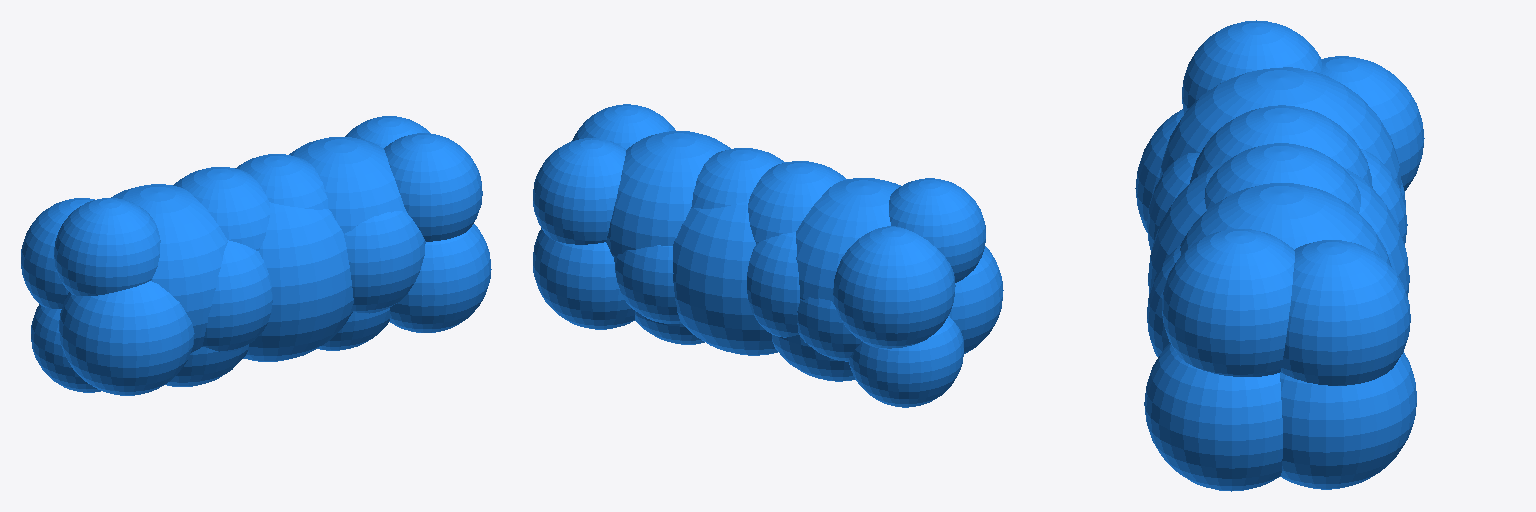
The robot description file, URDF, robot "speaker":
<?xml version="1.0"?>
<robot name="speaker">
  <!-- morphit:centroid -0.001900 0.000864 0.038425 -->
  <material name="default_color">
    <color rgba="0.200000 0.600000 1.000000 1.000000"/>
  </material>
  <link name="base">
    <inertial>
      <mass value="0.001000"/>
      <inertia ixx="0.000010" ixy="0.0" ixz="0.0" iyy="0.000010" iyz="0.0" izz="0.000010"/>
    </inertial>
  </link>
  <link name="sphere_0">
    <visual>
      <origin xyz="0 0 0" rpy="0 0 0"/>
      <geometry><sphere radius="0.025777"/></geometry>
      <material name="default_color"/>
    </visual>
    <collision>
      <origin xyz="0 0 0" rpy="0 0 0"/>
      <geometry><sphere radius="0.025777"/></geometry>
    </collision>
    <inertial>
      <mass value="0.044237"/>
      <inertia ixx="0.000012" ixy="0.0" ixz="0.0" iyy="0.000012" iyz="0.0" izz="0.000012"/>
    </inertial>
  </link>
  <joint name="sphere_0_fixed" type="fixed">
    <parent link="base"/>
    <child link="sphere_0"/>
    <origin xyz="-0.062753 -0.015723 -0.007194" rpy="0 0 0"/>
  </joint>
  <link name="sphere_1">
    <visual>
      <origin xyz="0 0 0" rpy="0 0 0"/>
      <geometry><sphere radius="0.024598"/></geometry>
      <material name="default_color"/>
    </visual>
    <collision>
      <origin xyz="0 0 0" rpy="0 0 0"/>
      <geometry><sphere radius="0.024598"/></geometry>
    </collision>
    <inertial>
      <mass value="0.038439"/>
      <inertia ixx="0.000009" ixy="0.0" ixz="0.0" iyy="0.000009" iyz="0.0" izz="0.000009"/>
    </inertial>
  </link>
  <joint name="sphere_1_fixed" type="fixed">
    <parent link="base"/>
    <child link="sphere_1"/>
    <origin xyz="0.067111 -0.014425 -0.013421" rpy="0 0 0"/>
  </joint>
  <link name="sphere_2">
    <visual>
      <origin xyz="0 0 0" rpy="0 0 0"/>
      <geometry><sphere radius="0.025559"/></geometry>
      <material name="default_color"/>
    </visual>
    <collision>
      <origin xyz="0 0 0" rpy="0 0 0"/>
      <geometry><sphere radius="0.025559"/></geometry>
    </collision>
    <inertial>
      <mass value="0.043122"/>
      <inertia ixx="0.000011" ixy="0.0" ixz="0.0" iyy="0.000011" iyz="0.0" izz="0.000011"/>
    </inertial>
  </link>
  <joint name="sphere_2_fixed" type="fixed">
    <parent link="base"/>
    <child link="sphere_2"/>
    <origin xyz="0.064702 0.012197 -0.012926" rpy="0 0 0"/>
  </joint>
  <link name="sphere_3">
    <visual>
      <origin xyz="0 0 0" rpy="0 0 0"/>
      <geometry><sphere radius="0.023199"/></geometry>
      <material name="default_color"/>
    </visual>
    <collision>
      <origin xyz="0 0 0" rpy="0 0 0"/>
      <geometry><sphere radius="0.023199"/></geometry>
    </collision>
    <inertial>
      <mass value="0.032247"/>
      <inertia ixx="0.000007" ixy="0.0" ixz="0.0" iyy="0.000007" iyz="0.0" izz="0.000007"/>
    </inertial>
  </link>
  <joint name="sphere_3_fixed" type="fixed">
    <parent link="base"/>
    <child link="sphere_3"/>
    <origin xyz="-0.063724 0.016560 0.007934" rpy="0 0 0"/>
  </joint>
  <link name="sphere_4">
    <visual>
      <origin xyz="0 0 0" rpy="0 0 0"/>
      <geometry><sphere radius="0.022176"/></geometry>
      <material name="default_color"/>
    </visual>
    <collision>
      <origin xyz="0 0 0" rpy="0 0 0"/>
      <geometry><sphere radius="0.022176"/></geometry>
    </collision>
    <inertial>
      <mass value="0.028167"/>
      <inertia ixx="0.000006" ixy="0.0" ixz="0.0" iyy="0.000006" iyz="0.0" izz="0.000006"/>
    </inertial>
  </link>
  <joint name="sphere_4_fixed" type="fixed">
    <parent link="base"/>
    <child link="sphere_4"/>
    <origin xyz="0.067507 -0.011989 0.016770" rpy="0 0 0"/>
  </joint>
  <link name="sphere_5">
    <visual>
      <origin xyz="0 0 0" rpy="0 0 0"/>
      <geometry><sphere radius="0.021061"/></geometry>
      <material name="default_color"/>
    </visual>
    <collision>
      <origin xyz="0 0 0" rpy="0 0 0"/>
      <geometry><sphere radius="0.021061"/></geometry>
    </collision>
    <inertial>
      <mass value="0.024127"/>
      <inertia ixx="0.000004" ixy="0.0" ixz="0.0" iyy="0.000004" iyz="0.0" izz="0.000004"/>
    </inertial>
  </link>
  <joint name="sphere_5_fixed" type="fixed">
    <parent link="base"/>
    <child link="sphere_5"/>
    <origin xyz="-0.065584 -0.007470 0.020474" rpy="0 0 0"/>
  </joint>
  <link name="sphere_6">
    <visual>
      <origin xyz="0 0 0" rpy="0 0 0"/>
      <geometry><sphere radius="0.021900"/></geometry>
      <material name="default_color"/>
    </visual>
    <collision>
      <origin xyz="0 0 0" rpy="0 0 0"/>
      <geometry><sphere radius="0.021900"/></geometry>
    </collision>
    <inertial>
      <mass value="0.027128"/>
      <inertia ixx="0.000005" ixy="0.0" ixz="0.0" iyy="0.000005" iyz="0.0" izz="0.000005"/>
    </inertial>
  </link>
  <joint name="sphere_6_fixed" type="fixed">
    <parent link="base"/>
    <child link="sphere_6"/>
    <origin xyz="-0.064905 0.009460 -0.019861" rpy="0 0 0"/>
  </joint>
  <link name="sphere_7">
    <visual>
      <origin xyz="0 0 0" rpy="0 0 0"/>
      <geometry><sphere radius="0.022145"/></geometry>
      <material name="default_color"/>
    </visual>
    <collision>
      <origin xyz="0 0 0" rpy="0 0 0"/>
      <geometry><sphere radius="0.022145"/></geometry>
    </collision>
    <inertial>
      <mass value="0.028048"/>
      <inertia ixx="0.000006" ixy="0.0" ixz="0.0" iyy="0.000006" iyz="0.0" izz="0.000006"/>
    </inertial>
  </link>
  <joint name="sphere_7_fixed" type="fixed">
    <parent link="base"/>
    <child link="sphere_7"/>
    <origin xyz="0.067646 0.013813 0.013410" rpy="0 0 0"/>
  </joint>
  <link name="sphere_8">
    <visual>
      <origin xyz="0 0 0" rpy="0 0 0"/>
      <geometry><sphere radius="0.029409"/></geometry>
      <material name="default_color"/>
    </visual>
    <collision>
      <origin xyz="0 0 0" rpy="0 0 0"/>
      <geometry><sphere radius="0.029409"/></geometry>
    </collision>
    <inertial>
      <mass value="0.065689"/>
      <inertia ixx="0.000023" ixy="0.0" ixz="0.0" iyy="0.000023" iyz="0.0" izz="0.000023"/>
    </inertial>
  </link>
  <joint name="sphere_8_fixed" type="fixed">
    <parent link="base"/>
    <child link="sphere_8"/>
    <origin xyz="-0.030400 -0.000941 -0.013119" rpy="0 0 0"/>
  </joint>
  <link name="sphere_9">
    <visual>
      <origin xyz="0 0 0" rpy="0 0 0"/>
      <geometry><sphere radius="0.034193"/></geometry>
      <material name="default_color"/>
    </visual>
    <collision>
      <origin xyz="0 0 0" rpy="0 0 0"/>
      <geometry><sphere radius="0.034193"/></geometry>
    </collision>
    <inertial>
      <mass value="0.103243"/>
      <inertia ixx="0.000048" ixy="0.0" ixz="0.0" iyy="0.000048" iyz="0.0" izz="0.000048"/>
    </inertial>
  </link>
  <joint name="sphere_9_fixed" type="fixed">
    <parent link="base"/>
    <child link="sphere_9"/>
    <origin xyz="-0.040910 -0.000737 0.003168" rpy="0 0 0"/>
  </joint>
  <link name="sphere_10">
    <visual>
      <origin xyz="0 0 0" rpy="0 0 0"/>
      <geometry><sphere radius="0.036848"/></geometry>
      <material name="default_color"/>
    </visual>
    <collision>
      <origin xyz="0 0 0" rpy="0 0 0"/>
      <geometry><sphere radius="0.036848"/></geometry>
    </collision>
    <inertial>
      <mass value="0.129215"/>
      <inertia ixx="0.000070" ixy="0.0" ixz="0.0" iyy="0.000070" iyz="0.0" izz="0.000070"/>
    </inertial>
  </link>
  <joint name="sphere_10_fixed" type="fixed">
    <parent link="base"/>
    <child link="sphere_10"/>
    <origin xyz="0.006460 -0.001190 -0.002977" rpy="0 0 0"/>
  </joint>
  <link name="sphere_11">
    <visual>
      <origin xyz="0 0 0" rpy="0 0 0"/>
      <geometry><sphere radius="0.032239"/></geometry>
      <material name="default_color"/>
    </visual>
    <collision>
      <origin xyz="0 0 0" rpy="0 0 0"/>
      <geometry><sphere radius="0.032239"/></geometry>
    </collision>
    <inertial>
      <mass value="0.086541"/>
      <inertia ixx="0.000036" ixy="0.0" ixz="0.0" iyy="0.000036" iyz="0.0" izz="0.000036"/>
    </inertial>
  </link>
  <joint name="sphere_11_fixed" type="fixed">
    <parent link="base"/>
    <child link="sphere_11"/>
    <origin xyz="0.038383 -0.000356 0.006305" rpy="0 0 0"/>
  </joint>
  <link name="sphere_12">
    <visual>
      <origin xyz="0 0 0" rpy="0 0 0"/>
      <geometry><sphere radius="0.025199"/></geometry>
      <material name="default_color"/>
    </visual>
    <collision>
      <origin xyz="0 0 0" rpy="0 0 0"/>
      <geometry><sphere radius="0.025199"/></geometry>
    </collision>
    <inertial>
      <mass value="0.041323"/>
      <inertia ixx="0.000010" ixy="0.0" ixz="0.0" iyy="0.000010" iyz="0.0" izz="0.000010"/>
    </inertial>
  </link>
  <joint name="sphere_12_fixed" type="fixed">
    <parent link="base"/>
    <child link="sphere_12"/>
    <origin xyz="0.033549 0.009826 -0.005083" rpy="0 0 0"/>
  </joint>
  <link name="sphere_13">
    <visual>
      <origin xyz="0 0 0" rpy="0 0 0"/>
      <geometry><sphere radius="0.025643"/></geometry>
      <material name="default_color"/>
    </visual>
    <collision>
      <origin xyz="0 0 0" rpy="0 0 0"/>
      <geometry><sphere radius="0.025643"/></geometry>
    </collision>
    <inertial>
      <mass value="0.043549"/>
      <inertia ixx="0.000011" ixy="0.0" ixz="0.0" iyy="0.000011" iyz="0.0" izz="0.000011"/>
    </inertial>
  </link>
  <joint name="sphere_13_fixed" type="fixed">
    <parent link="base"/>
    <child link="sphere_13"/>
    <origin xyz="0.039204 -0.012722 0.001179" rpy="0 0 0"/>
  </joint>
  <link name="sphere_14">
    <visual>
      <origin xyz="0 0 0" rpy="0 0 0"/>
      <geometry><sphere radius="0.026328"/></geometry>
      <material name="default_color"/>
    </visual>
    <collision>
      <origin xyz="0 0 0" rpy="0 0 0"/>
      <geometry><sphere radius="0.026328"/></geometry>
    </collision>
    <inertial>
      <mass value="0.047131"/>
      <inertia ixx="0.000013" ixy="0.0" ixz="0.0" iyy="0.000013" iyz="0.0" izz="0.000013"/>
    </inertial>
  </link>
  <joint name="sphere_14_fixed" type="fixed">
    <parent link="base"/>
    <child link="sphere_14"/>
    <origin xyz="-0.013693 -0.000390 0.012546" rpy="0 0 0"/>
  </joint>
  <link name="sphere_15">
    <visual>
      <origin xyz="0 0 0" rpy="0 0 0"/>
      <geometry><sphere radius="0.025593"/></geometry>
      <material name="default_color"/>
    </visual>
    <collision>
      <origin xyz="0 0 0" rpy="0 0 0"/>
      <geometry><sphere radius="0.025593"/></geometry>
    </collision>
    <inertial>
      <mass value="0.043293"/>
      <inertia ixx="0.000011" ixy="0.0" ixz="0.0" iyy="0.000011" iyz="0.0" izz="0.000011"/>
    </inertial>
  </link>
  <joint name="sphere_15_fixed" type="fixed">
    <parent link="base"/>
    <child link="sphere_15"/>
    <origin xyz="0.010770 -0.000534 0.013034" rpy="0 0 0"/>
  </joint>
  <link name="sphere_16">
    <visual>
      <origin xyz="0 0 0" rpy="0 0 0"/>
      <geometry><sphere radius="0.025357"/></geometry>
      <material name="default_color"/>
    </visual>
    <collision>
      <origin xyz="0 0 0" rpy="0 0 0"/>
      <geometry><sphere radius="0.025357"/></geometry>
    </collision>
    <inertial>
      <mass value="0.042106"/>
      <inertia ixx="0.000011" ixy="0.0" ixz="0.0" iyy="0.000011" iyz="0.0" izz="0.000011"/>
    </inertial>
  </link>
  <joint name="sphere_16_fixed" type="fixed">
    <parent link="base"/>
    <child link="sphere_16"/>
    <origin xyz="-0.041511 0.009265 -0.002933" rpy="0 0 0"/>
  </joint>
  <link name="sphere_17">
    <visual>
      <origin xyz="0 0 0" rpy="0 0 0"/>
      <geometry><sphere radius="0.025493"/></geometry>
      <material name="default_color"/>
    </visual>
    <collision>
      <origin xyz="0 0 0" rpy="0 0 0"/>
      <geometry><sphere radius="0.025493"/></geometry>
    </collision>
    <inertial>
      <mass value="0.042788"/>
      <inertia ixx="0.000011" ixy="0.0" ixz="0.0" iyy="0.000011" iyz="0.0" izz="0.000011"/>
    </inertial>
  </link>
  <joint name="sphere_17_fixed" type="fixed">
    <parent link="base"/>
    <child link="sphere_17"/>
    <origin xyz="-0.024853 -0.012828 -0.000937" rpy="0 0 0"/>
  </joint>
  <link name="sphere_18">
    <visual>
      <origin xyz="0 0 0" rpy="0 0 0"/>
      <geometry><sphere radius="0.025929"/></geometry>
      <material name="default_color"/>
    </visual>
    <collision>
      <origin xyz="0 0 0" rpy="0 0 0"/>
      <geometry><sphere radius="0.025929"/></geometry>
    </collision>
    <inertial>
      <mass value="0.045022"/>
      <inertia ixx="0.000012" ixy="0.0" ixz="0.0" iyy="0.000012" iyz="0.0" izz="0.000012"/>
    </inertial>
  </link>
  <joint name="sphere_18_fixed" type="fixed">
    <parent link="base"/>
    <child link="sphere_18"/>
    <origin xyz="0.034773 -0.000973 -0.017098" rpy="0 0 0"/>
  </joint>
  <link name="sphere_19">
    <visual>
      <origin xyz="0 0 0" rpy="0 0 0"/>
      <geometry><sphere radius="0.025845"/></geometry>
      <material name="default_color"/>
    </visual>
    <collision>
      <origin xyz="0 0 0" rpy="0 0 0"/>
      <geometry><sphere radius="0.025845"/></geometry>
    </collision>
    <inertial>
      <mass value="0.044585"/>
      <inertia ixx="0.000012" ixy="0.0" ixz="0.0" iyy="0.000012" iyz="0.0" izz="0.000012"/>
    </inertial>
  </link>
  <joint name="sphere_19_fixed" type="fixed">
    <parent link="base"/>
    <child link="sphere_19"/>
    <origin xyz="-0.021774 0.009157 0.000729" rpy="0 0 0"/>
  </joint>
</robot>

--- Facts derived from the render (not from the file) ---
Views: 3 orthographic renders of the robot side by side, from view 1: azimuth 30°, elevation 25°; view 2: azimuth 150°, elevation 25°; view 3: azimuth 270°, elevation 25°.
Model speaker with 21 links and 20 joints (20 fixed), rooted at base, posed every joint at zero.
Visible links, largest first — view 1: sphere_0, sphere_10, sphere_5, sphere_9, sphere_4, sphere_1, sphere_11, sphere_13, sphere_17, sphere_14, sphere_3, sphere_15 (+4 smaller); view 2: sphere_3, sphere_10, sphere_11, sphere_7, sphere_9, sphere_2, sphere_6, sphere_5, sphere_14, sphere_19, sphere_12, sphere_15 (+5 smaller); view 3: sphere_4, sphere_7, sphere_1, sphere_2, sphere_9, sphere_11, sphere_14, sphere_5, sphere_15, sphere_3, sphere_10, sphere_0 (+3 smaller).
Boxes of the visible links, x1,y1,x2,y2 form: sphere_0: (59,281,194,395); sphere_10: (243,202,353,361); sphere_5: (54,198,160,295); sphere_9: (111,184,227,352); sphere_4: (384,133,482,241); sphere_1: (389,224,491,332); sphere_11: (289,137,406,233); sphere_13: (344,211,425,313); sphere_17: (203,240,272,351); sphere_14: (173,167,269,250); sphere_3: (21,198,94,308); sphere_15: (235,154,327,209); sphere_3: (833,226,955,348); sphere_10: (673,201,777,355); sphere_11: (606,131,730,257); sphere_7: (533,138,625,244); sphere_9: (796,178,900,303); sphere_2: (533,228,634,329); sphere_6: (848,316,963,407); sphere_5: (889,178,985,282); sphere_14: (748,161,846,243); sphere_19: (747,232,799,337); sphere_12: (614,245,681,323); sphere_15: (691,148,785,208); sphere_4: (1162,229,1294,376); sphere_7: (1281,240,1410,385); sphere_1: (1144,343,1282,491); sphere_2: (1280,352,1416,489); sphere_9: (1160,67,1401,188); sphere_11: (1180,183,1391,266); sphere_14: (1190,105,1372,187); sphere_5: (1182,20,1321,113); sphere_15: (1204,143,1360,211); sphere_3: (1320,56,1424,190); sphere_10: (1148,163,1409,296); sphere_0: (1135,109,1183,232).
Bounding box of the posed robot: 0.1802 × 0.0813 × 0.0846 m (x, y, z).
Geometry: primitives only (box / cylinder / sphere), no mesh files.
